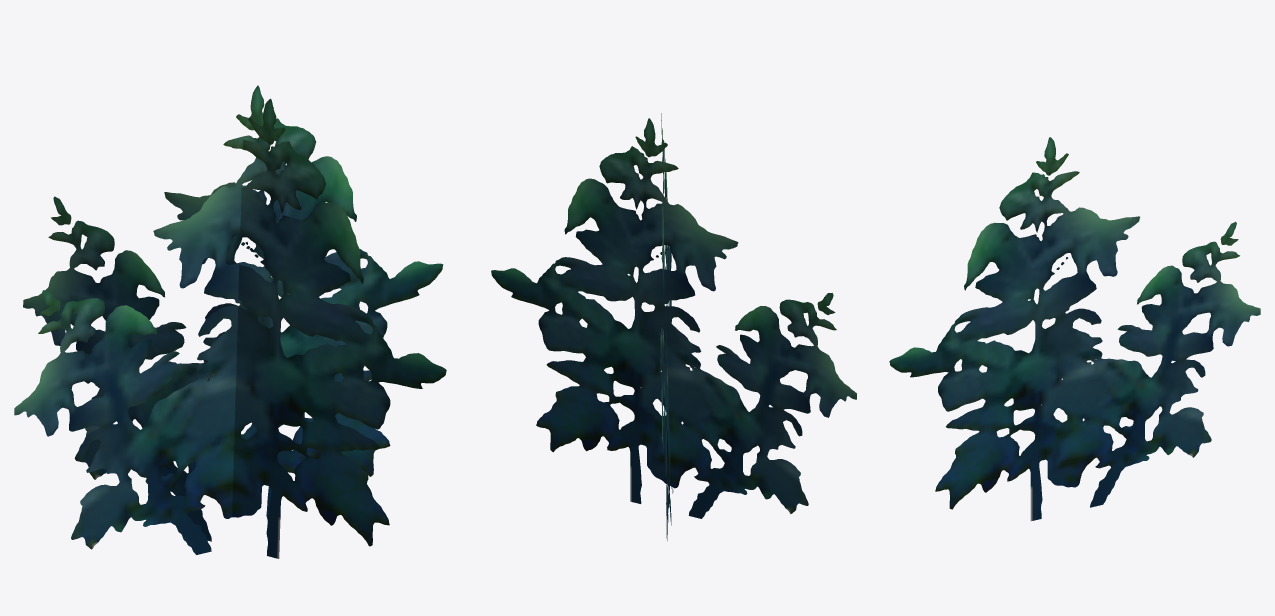
File: M3_P_hua06.FBX
The picture shows the model from 3 angles, left to right: view 1: azimuth 30°, elevation 25°; view 2: azimuth 150°, elevation 25°; view 3: azimuth 270°, elevation 25°; orthographic projection. The views are drawn at different scales.
Parts seen in each view (by area): view 1: M3_P_hua06; view 2: M3_P_hua06; view 3: M3_P_hua06.
Boxes of the visible parts, x1,y1,x2,y2 form: M3_P_hua06: (14,85,446,558); M3_P_hua06: (491,113,856,540); M3_P_hua06: (889,137,1260,521).
Bounding box in the file's own units: 313 × 329 × 275.
